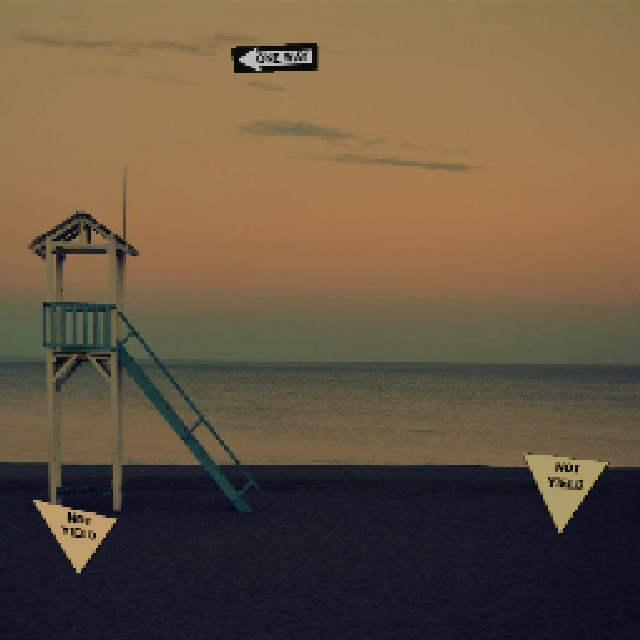NOT_YIELD: (519, 450, 607, 534), (28, 496, 116, 574)
ONE_WAY_ left: (228, 40, 316, 72)
